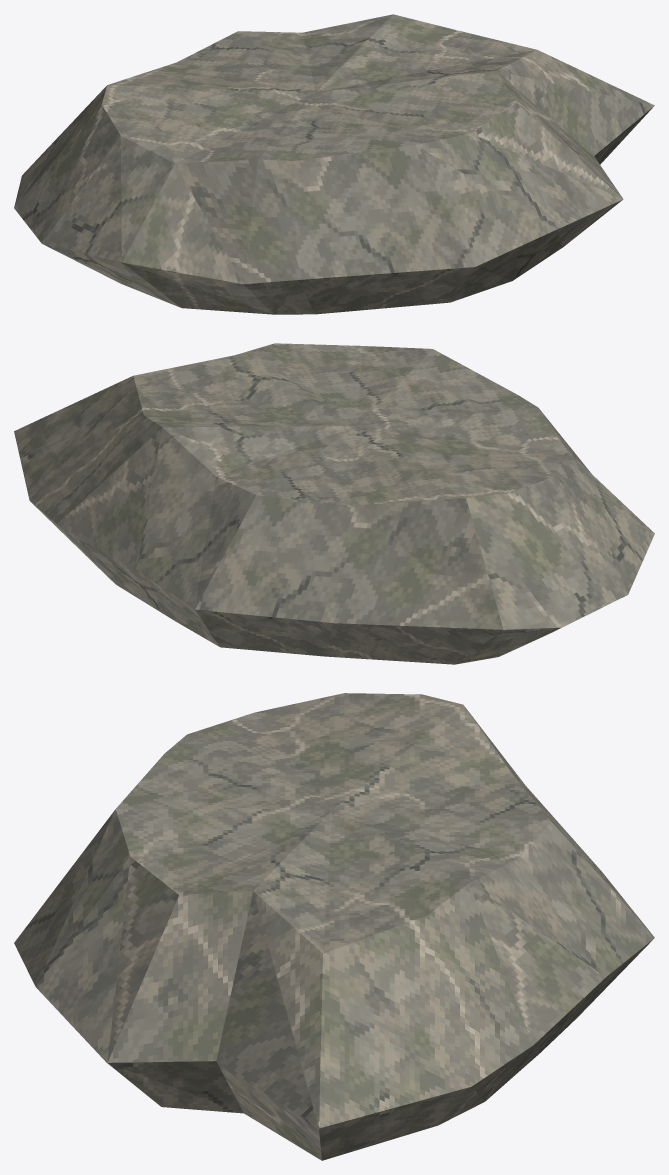
Rendered from Masso_03_MassoPiatto.obj.
3 renders of one model, top to bottom at view 1: azimuth 30°, elevation 25°; view 2: azimuth 150°, elevation 25°; view 3: azimuth 270°, elevation 25°, orthographic. The views are drawn at different scales.
Visible parts, largest first — view 1: Masso_03_MassoPiatto; view 2: Masso_03_MassoPiatto; view 3: Masso_03_MassoPiatto.
Boxes of the visible parts, bbox=[...] form: Masso_03_MassoPiatto: bbox=[14, 14, 654, 314]; Masso_03_MassoPiatto: bbox=[14, 343, 654, 664]; Masso_03_MassoPiatto: bbox=[14, 693, 654, 1160].
Size of the model in its own units: 3.4 by 0.85 by 2.5.
1 material, 1 textured.
